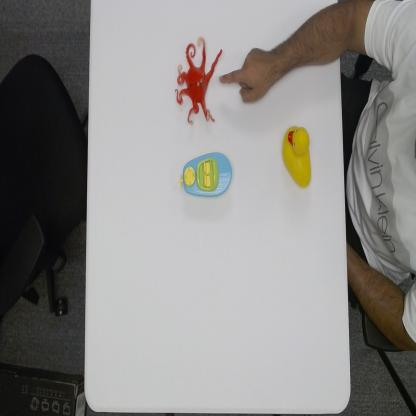Arm: (278, 0, 363, 84)
Boat: (178, 150, 233, 198)
Duck: (280, 123, 312, 189)
Hand: (219, 47, 278, 108)
Octopus: (174, 36, 223, 127)
